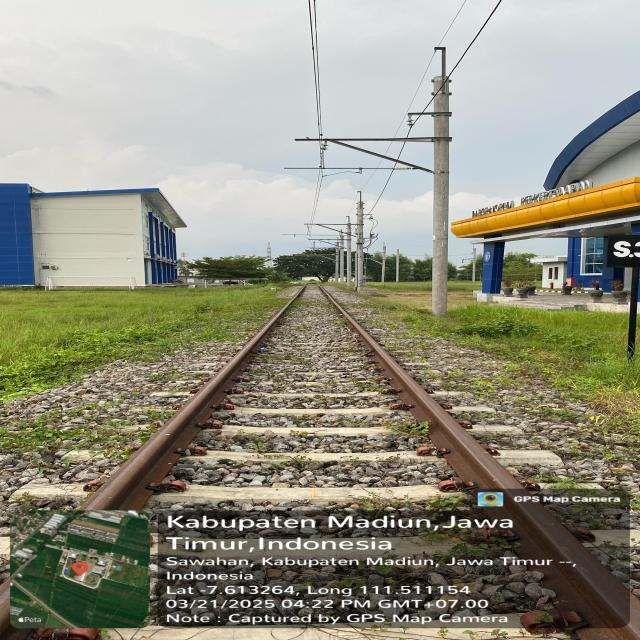rail-detection: (319, 287, 633, 630), (84, 288, 305, 510)
